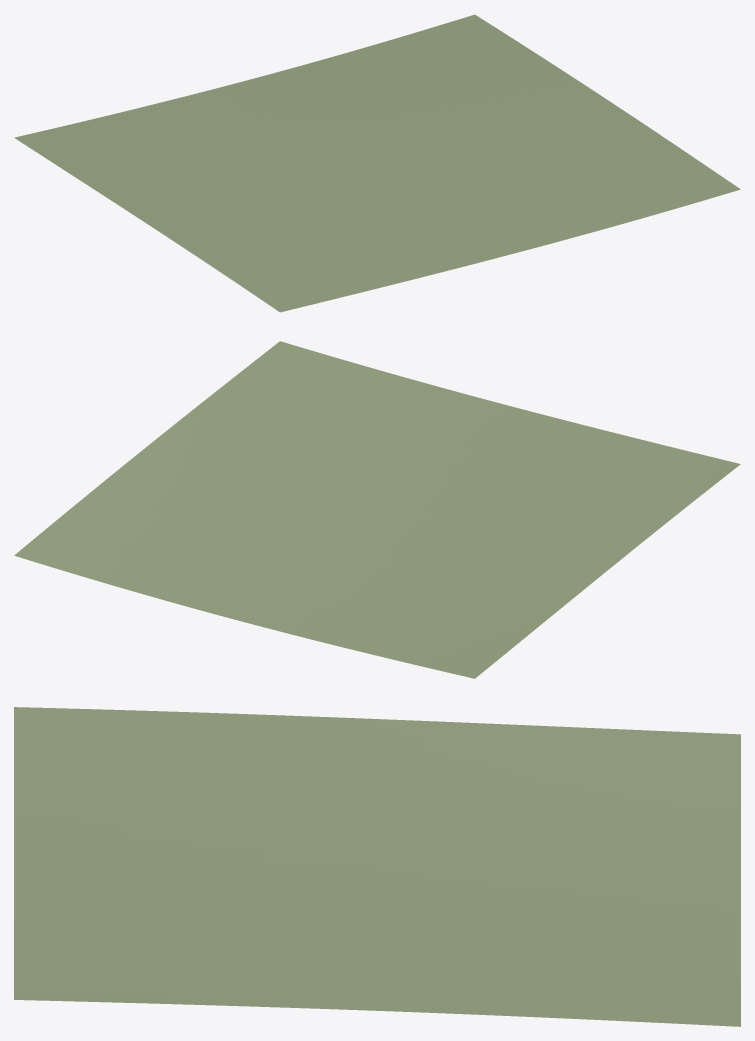
File: expanse-3-25.glb
The picture shows the model from 3 angles, top to bottom: view 1: azimuth 30°, elevation 25°; view 2: azimuth 150°, elevation 25°; view 3: azimuth 270°, elevation 25°; orthographic projection. The views are drawn at different scales.
Parts seen in each view (by area): view 1: expanse-3-25; view 2: expanse-3-25; view 3: expanse-3-25.
Part boxes in pixels (x1=…): expanse-3-25: x1=14, y1=14, x2=740, y2=312; expanse-3-25: x1=14, y1=341, x2=740, y2=678; expanse-3-25: x1=14, y1=707, x2=740, y2=1026.
Bounding box in the file's own units: 256 × 16.62 × 256.
